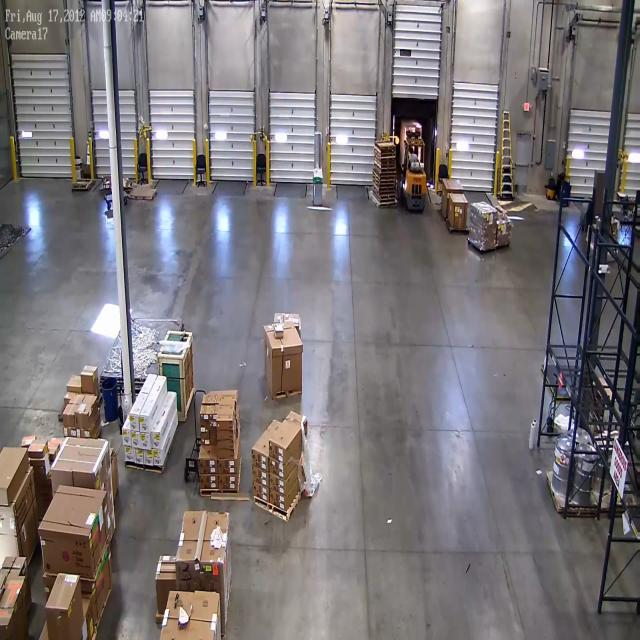human: (407, 145, 418, 168)
product 1: (173, 511, 236, 577), (7, 463, 41, 568), (89, 439, 121, 538), (263, 324, 305, 399), (159, 591, 223, 640), (86, 551, 118, 611), (87, 492, 111, 561), (111, 445, 123, 509), (468, 220, 498, 244), (446, 190, 469, 219), (472, 203, 500, 226), (275, 308, 301, 331), (440, 174, 465, 194), (497, 222, 511, 244)
product 2: (274, 323, 285, 340)
product 3: (154, 448, 164, 467), (134, 446, 144, 464), (151, 432, 160, 450), (128, 414, 138, 430), (142, 416, 150, 432), (122, 430, 130, 446), (140, 434, 149, 448), (146, 451, 154, 466), (132, 432, 139, 448), (126, 447, 132, 464)
product 4: (24, 440, 54, 457), (269, 439, 286, 467), (250, 447, 268, 471), (268, 488, 286, 512), (77, 396, 90, 428), (268, 458, 285, 481), (217, 456, 237, 475), (214, 404, 237, 420), (39, 451, 52, 478), (251, 482, 269, 501), (198, 457, 217, 475), (81, 364, 100, 382), (63, 402, 76, 428), (270, 476, 286, 496), (218, 474, 235, 492), (199, 475, 217, 492), (49, 440, 64, 460), (252, 471, 269, 486), (67, 374, 82, 391), (495, 204, 509, 221), (62, 425, 78, 439), (202, 394, 223, 404), (217, 429, 235, 440), (219, 394, 238, 404), (216, 439, 234, 449), (199, 406, 217, 416), (21, 433, 36, 445), (218, 418, 234, 429), (216, 448, 235, 457), (208, 412, 217, 426), (204, 420, 216, 430), (78, 428, 90, 438), (200, 412, 208, 426), (199, 425, 209, 436), (200, 437, 209, 445)
product 5: (45, 574, 83, 636), (1, 443, 33, 502), (1, 545, 34, 596), (70, 600, 101, 638), (0, 608, 31, 640), (152, 552, 181, 586), (1, 586, 25, 616)
